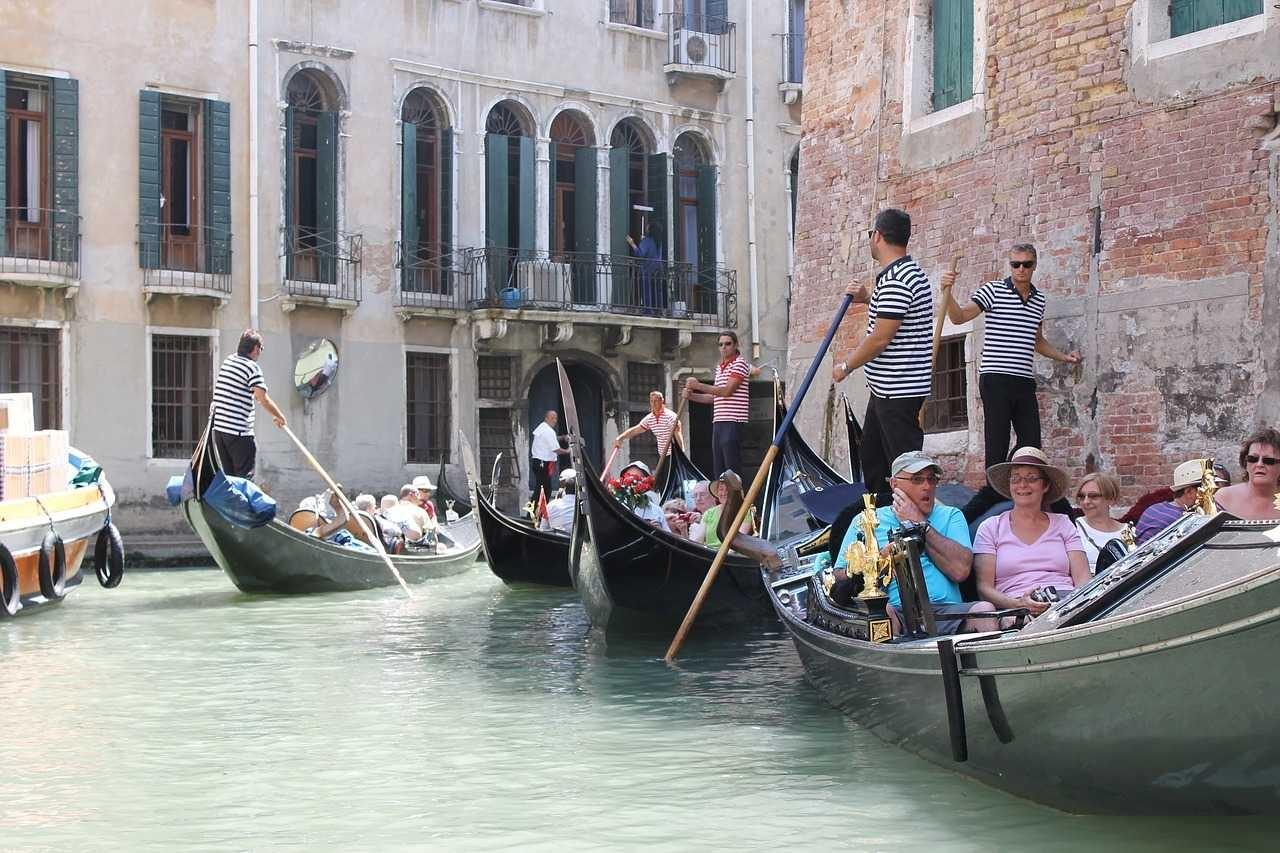kayak: (760, 513, 1277, 812), (563, 423, 780, 652), (180, 493, 482, 592), (1, 392, 122, 618), (458, 437, 577, 590)
